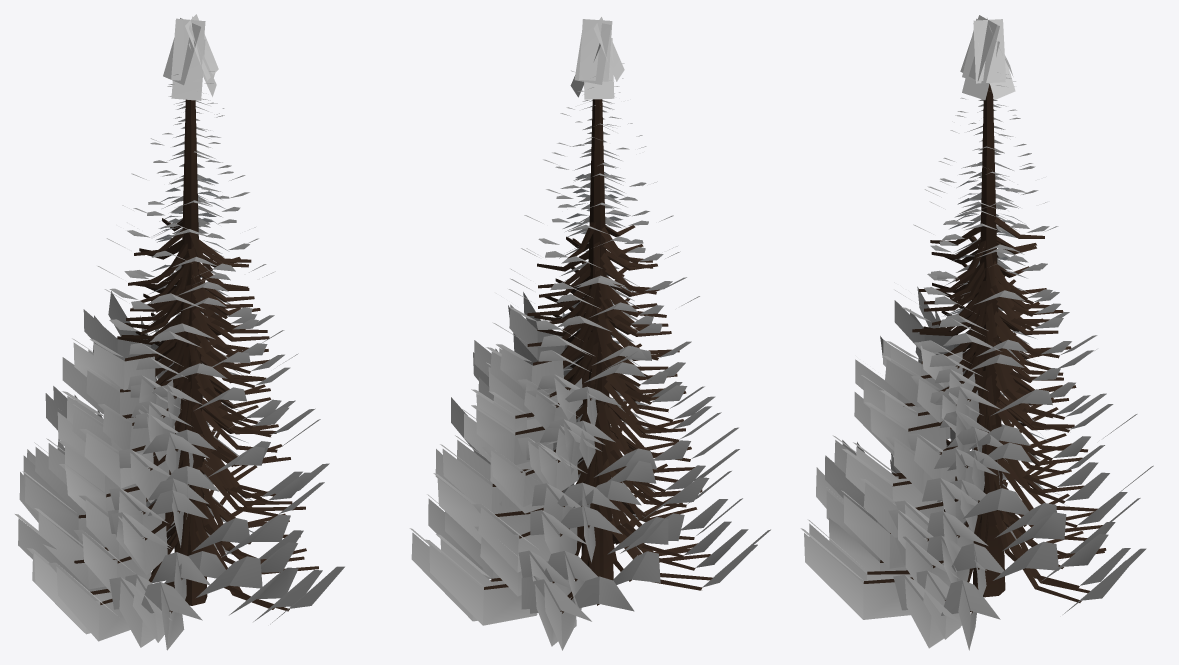
Rendered from spruce_near.glb.
The picture shows the model from 3 angles, left to right: view 1: azimuth 30°, elevation 25°; view 2: azimuth 150°, elevation 25°; view 3: azimuth 270°, elevation 25°; orthographic projection.
Parts seen in each view (by area): view 1: spruce_2, spruce_0, spruce_1; view 2: spruce_2, spruce_0, spruce_1; view 3: spruce_2, spruce_0, spruce_1.
Boxes of the visible parts, left/top/right/bottom form: spruce_2: left=15, top=14, right=320, bottom=647; spruce_0: left=19, top=16, right=344, bottom=650; spruce_1: left=22, top=39, right=324, bottom=642; spruce_2: left=427, top=19, right=757, bottom=646; spruce_0: left=425, top=17, right=770, bottom=625; spruce_1: left=409, top=38, right=757, bottom=650; spruce_2: left=825, top=15, right=1137, bottom=648; spruce_0: left=800, top=18, right=1153, bottom=650; spruce_1: left=807, top=41, right=1133, bottom=639.
Size of the model in its own units: 4.88 by 8.66 by 4.9.
